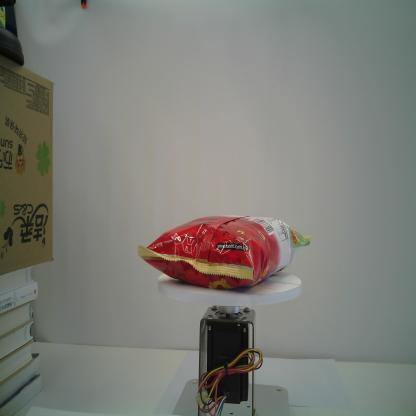Puffed Food: (136, 212, 311, 289)
